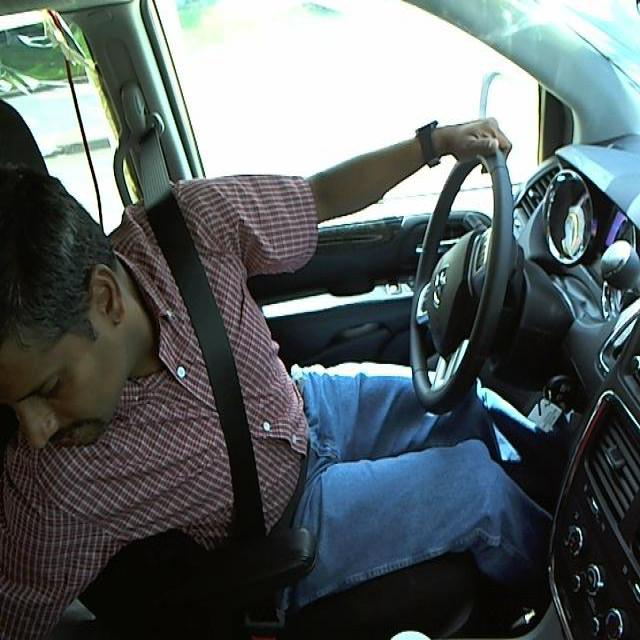seatbelt: (134, 158, 269, 534)
